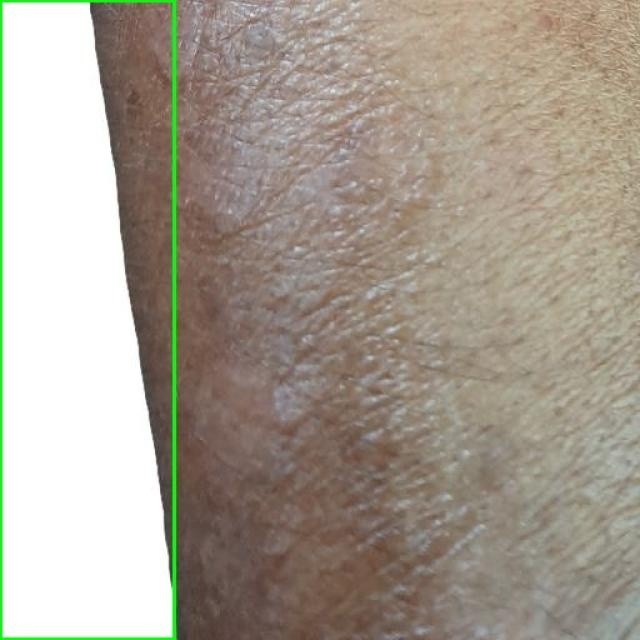Tinea Corporis: (0, 0, 174, 639)
